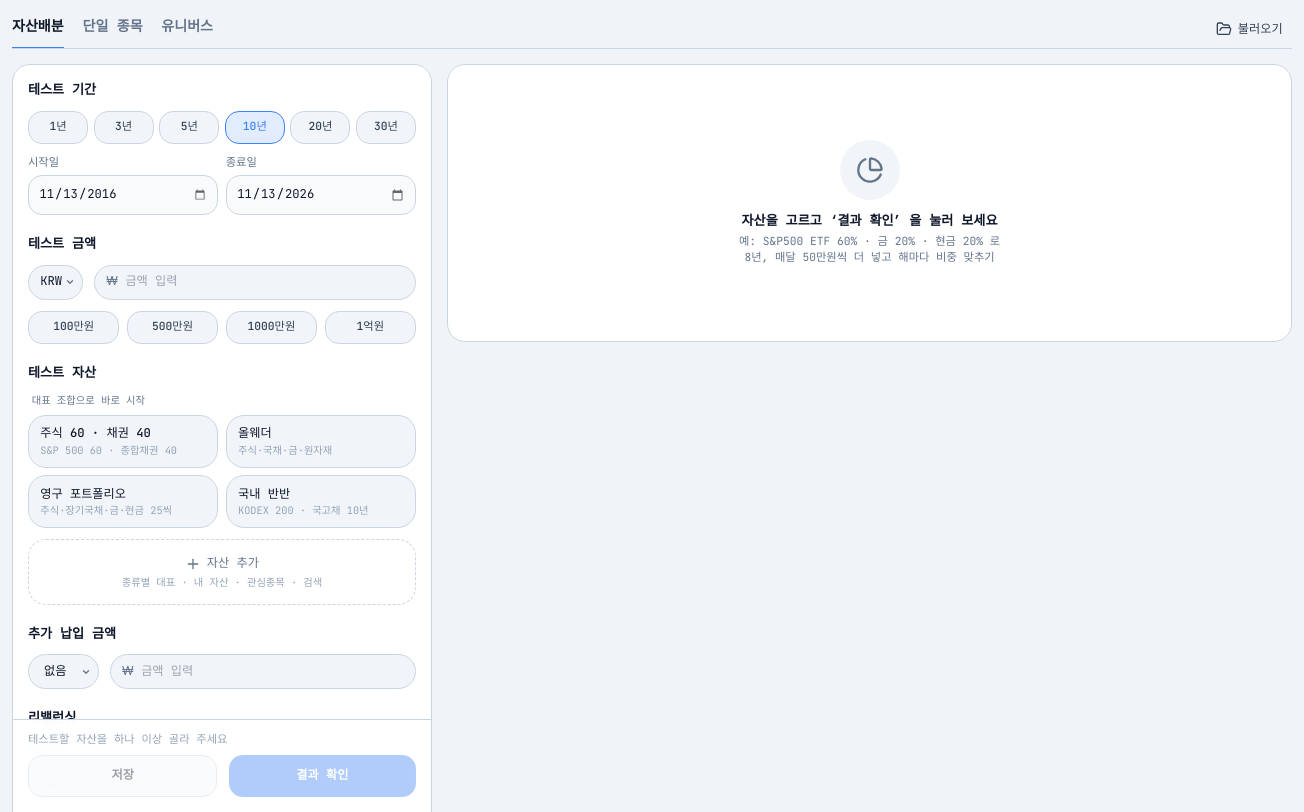
Scenario: 단일 종목 설정 — 자산배분과 같은 틀 › 한 장의 카드에 칸 제목이 있다 — '신규 테스트' 제목 줄은 없다
Click the tab "단일 종목" at (113,30), box [82,12,143,49]
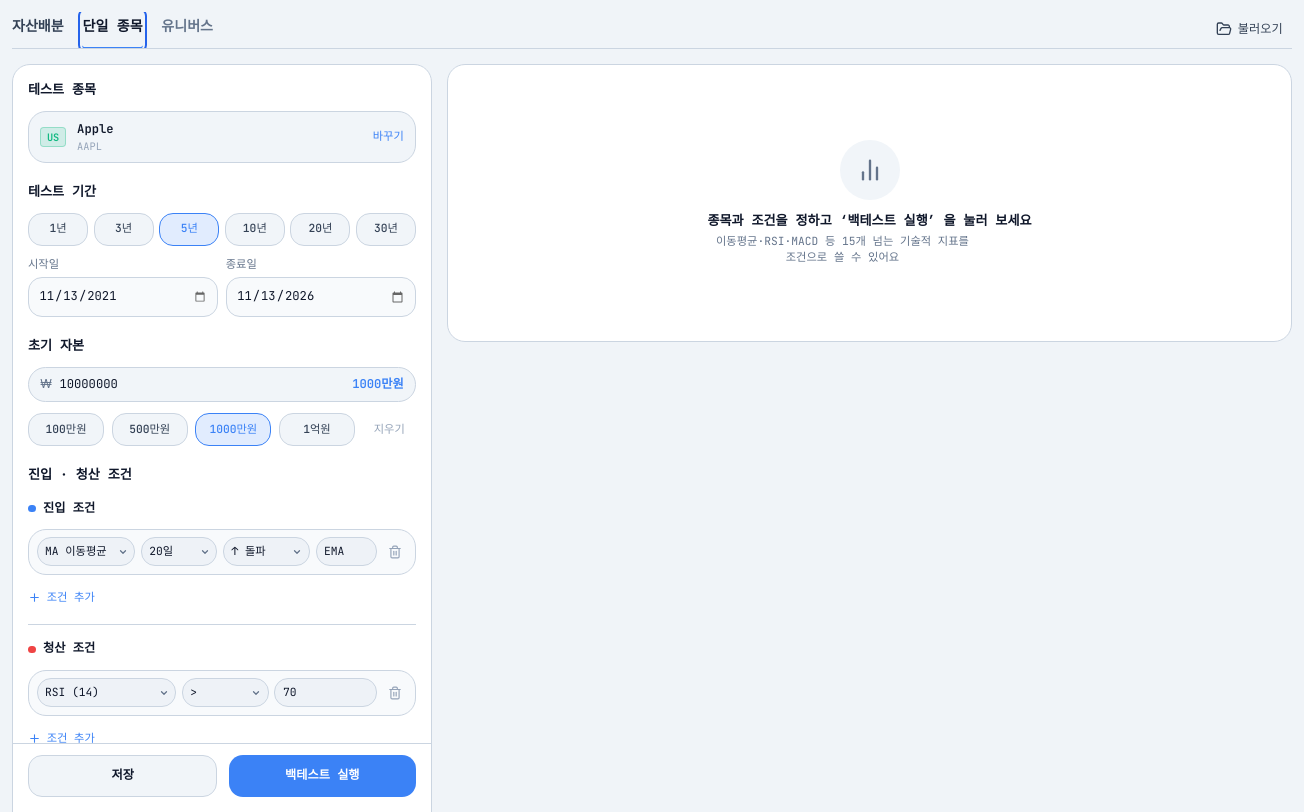
Result: the text "테스트 종목" is shown at [28,80,96,99]
Result: the text "초기 자본" is shown at [28,336,84,356]
Result: the text "진입 · 청산 조건" is shown at [28,465,132,484]
